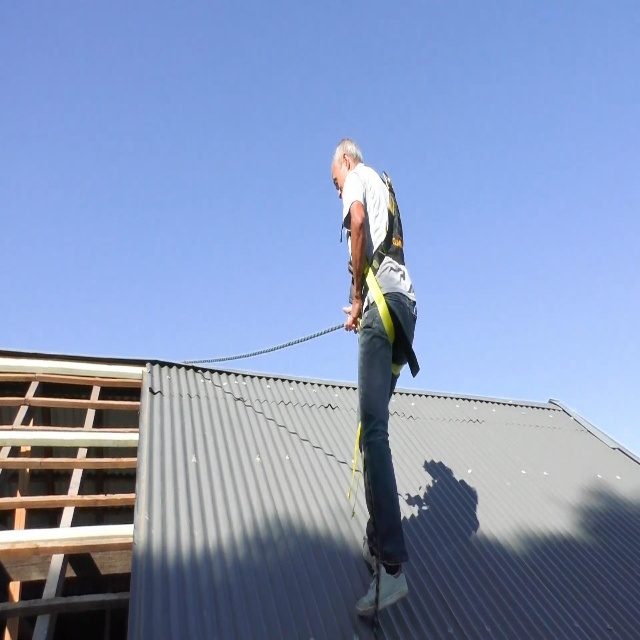Arnes_seguridad: (347, 155, 420, 377)
